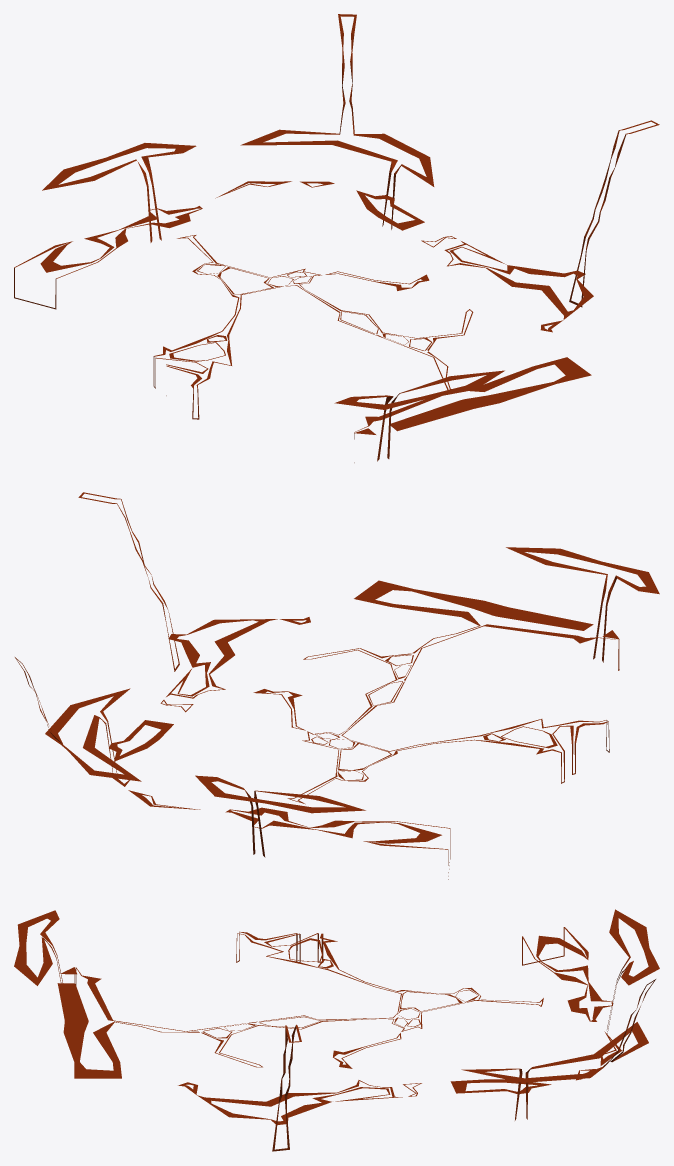
The model's file is Lava_02.FBX.
The picture shows the model from 3 angles, top to bottom: view 1: azimuth 30°, elevation 25°; view 2: azimuth 150°, elevation 25°; view 3: azimuth 270°, elevation 25°; orthographic projection. The views are drawn at different scales.
Visible parts, largest first — view 1: Lava_02; view 2: Lava_02; view 3: Lava_02.
Boxes of the visible parts, <box> form: Lava_02: <box>14,14,659,462</box>; Lava_02: <box>15,492,659,879</box>; Lava_02: <box>14,909,659,1151</box>.
Bounding box in the file's own units: 25.11 × 7.57 × 29.04.
